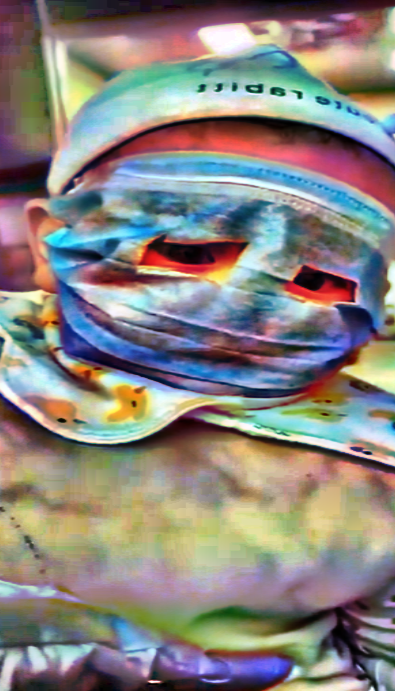mask_weared_incorrect: (19, 47, 394, 402)
